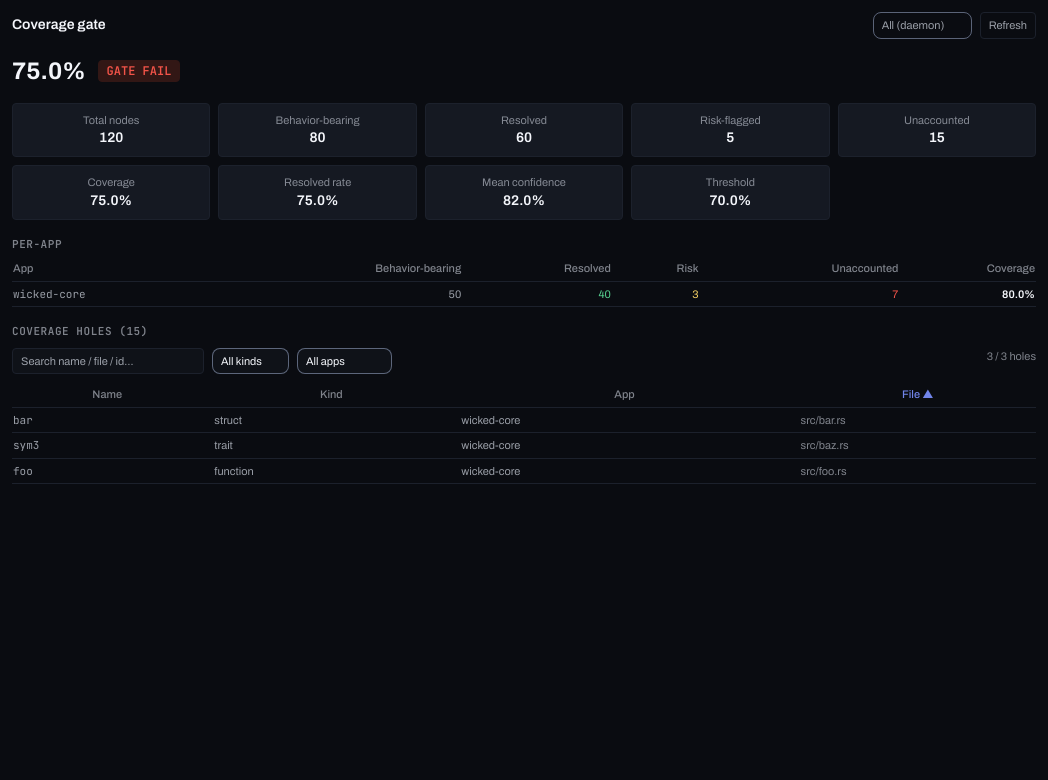
Test: CoverageView › selecting a repo loads that repo’s coverage (not the daemon-wide report)
This screenshot has width=1048, height=780.
Note: The picker renders the registered repo once listRepos resolves.
Select "AutoGPT" in the dropdown named "Coverage repo". click: (922, 25)
box: [873,12,972,38]
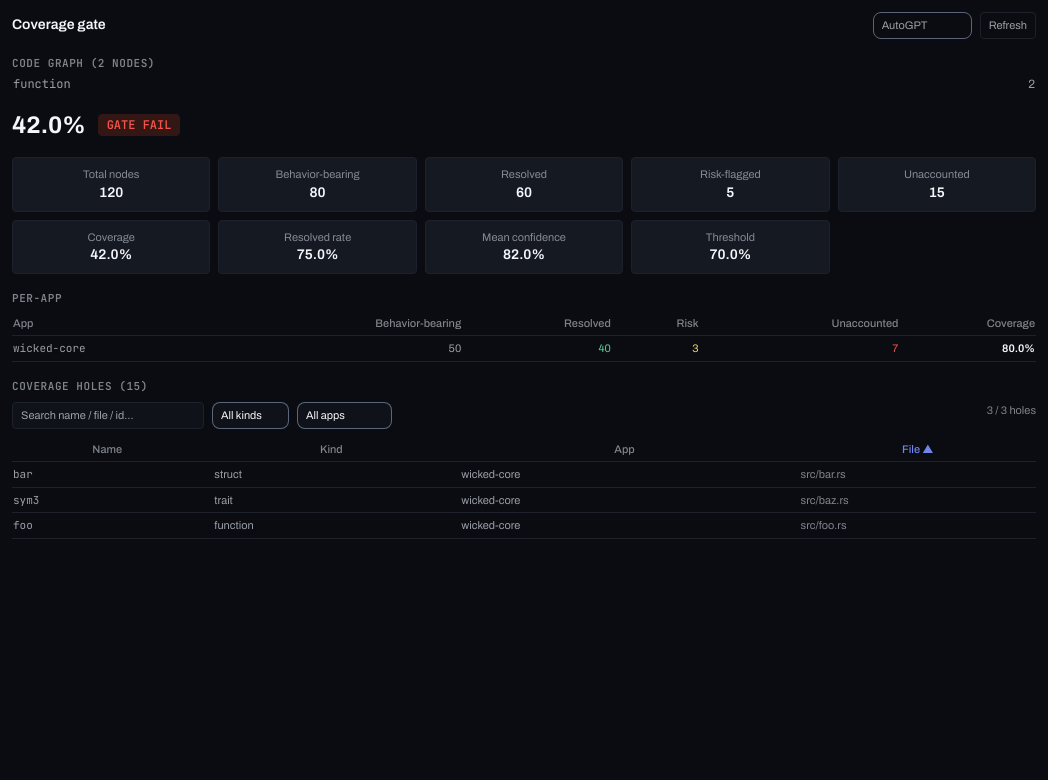
Expected: the element named "Code graph summary" shows "function", [13,76,71,92]
